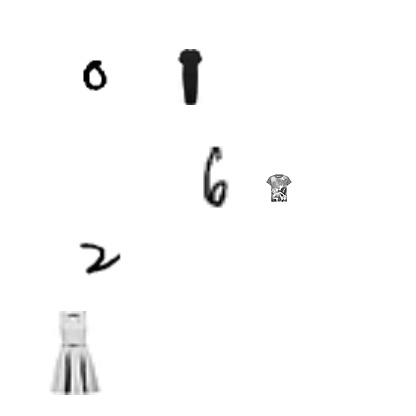0: (73, 53, 115, 95)
2: (70, 231, 126, 287)
6: (171, 138, 255, 222)
Dress: (32, 311, 116, 395), (162, 49, 218, 105)
T-shirt/top: (265, 174, 293, 202)
